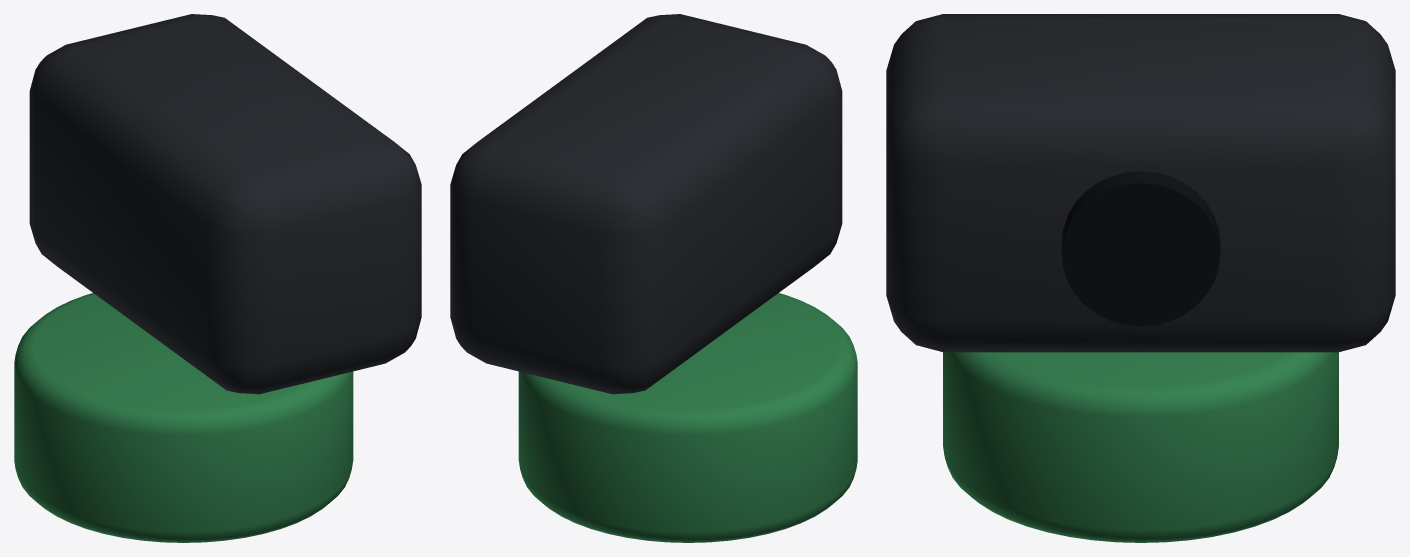
Rendered from scout_head.glb.
3 views of the same model, side by side, from view 1: azimuth 30°, elevation 25°; view 2: azimuth 150°, elevation 25°; view 3: azimuth 270°, elevation 25° (orthographic). The views are drawn at different scales.
Visible parts, largest first — view 1: scout_cam, pan_base; view 2: scout_cam, pan_base; view 3: scout_cam, pan_base, scout_lens.
Part boxes in pixels (x1,y1,x2,y2): scout_cam: (29,14,421,394); pan_base: (14,293,353,542); scout_cam: (450,14,842,394); pan_base: (518,293,857,542); scout_cam: (886,14,1395,352); pan_base: (943,352,1338,542); scout_lens: (1061,171,1220,326).
Bounding box in the file's own units: 0.075 × 0.085 × 0.09.
